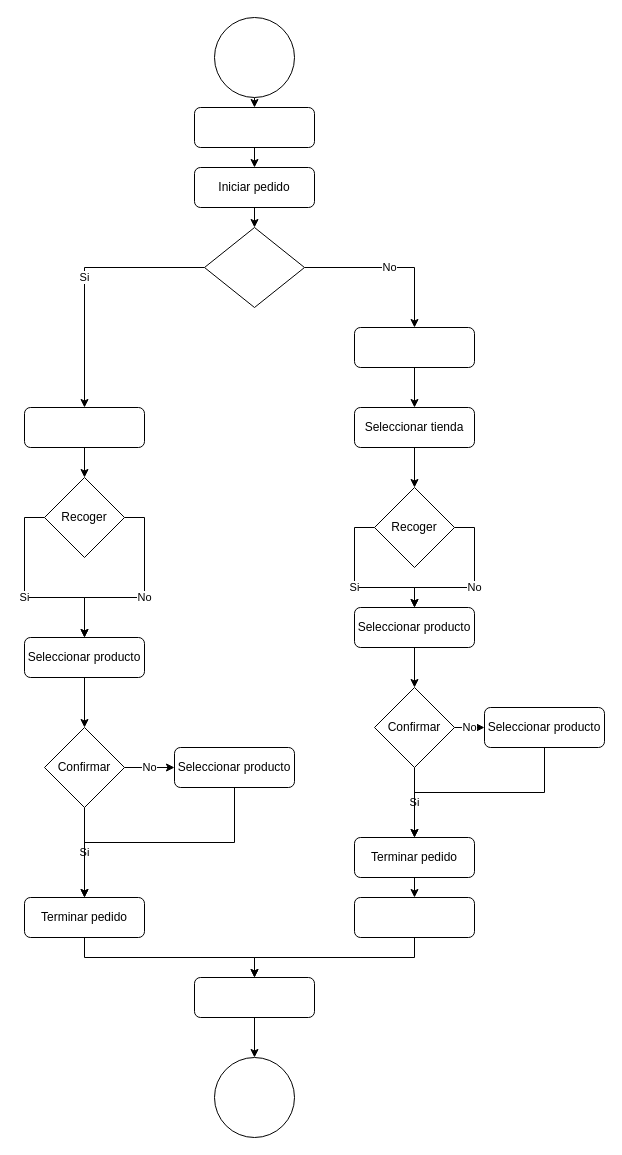
This 622x1155 diagram has some shape labels left out. The shapes that lost their labels are listed below. From the top down, each one's box as (x1, y1, x2, y2) in pixels, then its label:
(194, 106, 314, 148): Web de pizzas
(204, 226, 304, 308): Registro
(354, 326, 474, 368): Direccion
(24, 406, 144, 448): Iniciar secion
(354, 896, 474, 938): Introducir Datos personales
(194, 976, 314, 1018): Pagar
